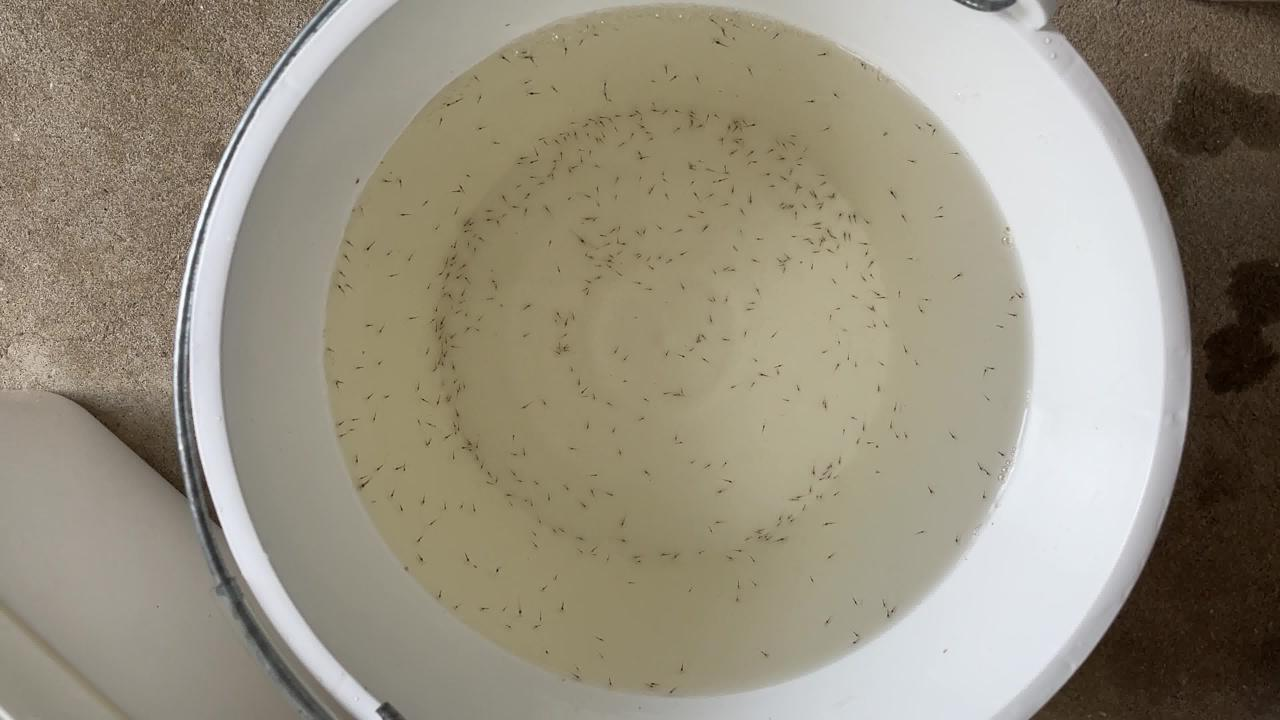shrimp: (981, 468, 993, 476), (973, 462, 985, 470), (993, 453, 1005, 461), (978, 491, 990, 499), (949, 530, 961, 538), (927, 491, 939, 499), (913, 524, 925, 532), (946, 431, 958, 439), (982, 392, 994, 400), (986, 361, 998, 369), (976, 367, 988, 375), (988, 323, 1000, 331), (1006, 311, 1018, 319), (1014, 291, 1026, 299), (1004, 293, 1016, 301), (953, 268, 965, 276), (932, 214, 944, 222), (933, 203, 945, 211), (921, 293, 933, 301), (916, 302, 928, 310), (950, 148, 962, 156), (928, 126, 940, 134), (923, 119, 935, 127), (909, 124, 921, 132), (907, 156, 919, 164), (883, 190, 895, 198), (896, 211, 908, 219), (904, 251, 916, 259), (893, 286, 905, 294), (912, 357, 924, 365), (900, 342, 912, 350), (880, 320, 892, 328), (871, 320, 883, 328), (863, 322, 875, 330), (875, 358, 887, 366), (888, 398, 900, 406), (897, 431, 909, 439), (890, 433, 902, 441), (886, 420, 898, 428), (886, 607, 898, 615), (881, 613, 893, 621), (876, 598, 888, 606), (849, 630, 861, 638), (849, 636, 861, 644), (849, 599, 861, 607), (824, 614, 836, 622), (757, 649, 769, 657), (676, 662, 688, 670), (670, 685, 682, 693), (652, 677, 664, 685), (644, 682, 656, 690), (608, 678, 620, 686), (592, 651, 604, 659), (593, 631, 605, 639), (574, 661, 586, 669), (575, 675, 587, 683), (731, 579, 743, 587), (748, 582, 760, 590), (803, 572, 815, 580), (822, 552, 834, 560), (819, 516, 831, 524), (870, 468, 882, 476), (871, 444, 883, 452), (861, 439, 873, 447), (847, 437, 859, 445), (858, 425, 870, 433), (873, 383, 885, 391), (847, 413, 859, 421), (835, 428, 847, 436), (836, 461, 848, 469), (827, 487, 839, 495), (830, 473, 842, 481), (824, 473, 836, 481), (816, 476, 828, 484), (820, 468, 832, 476), (823, 460, 835, 468), (815, 492, 827, 500), (803, 486, 815, 494), (806, 466, 818, 474), (798, 503, 810, 511), (786, 494, 798, 502), (793, 491, 805, 499), (786, 509, 798, 517), (785, 519, 797, 527), (775, 538, 787, 546), (773, 519, 785, 527), (773, 513, 785, 521), (764, 535, 776, 543), (755, 534, 767, 542), (748, 528, 760, 536), (753, 526, 765, 534), (741, 533, 753, 541), (745, 553, 757, 561), (730, 544, 742, 552), (725, 554, 737, 562), (842, 352, 854, 360), (847, 361, 859, 369), (835, 361, 847, 369), (816, 398, 828, 406), (818, 344, 830, 352), (832, 337, 844, 345), (840, 323, 852, 331), (867, 305, 879, 313), (875, 293, 887, 301), (869, 288, 881, 296), (846, 293, 858, 301), (833, 303, 845, 311), (820, 312, 832, 320), (859, 273, 871, 281), (866, 272, 878, 280), (866, 262, 878, 270), (860, 251, 872, 259), (856, 241, 868, 249), (840, 262, 852, 270), (829, 275, 841, 283), (767, 331, 779, 339), (772, 360, 784, 368), (770, 366, 782, 374), (793, 382, 805, 390), (781, 394, 793, 402), (757, 420, 769, 428), (760, 368, 772, 376), (751, 357, 763, 365), (746, 379, 758, 387), (721, 381, 733, 389), (717, 457, 729, 465), (718, 475, 730, 483), (715, 486, 727, 494), (711, 519, 723, 527), (703, 526, 715, 534), (693, 546, 705, 554), (683, 585, 695, 593), (731, 596, 743, 604), (539, 647, 551, 655), (529, 622, 541, 630), (533, 612, 545, 620), (555, 605, 567, 613), (619, 578, 631, 586), (633, 558, 645, 566), (630, 551, 642, 559), (671, 552, 683, 560), (661, 552, 673, 560), (702, 464, 714, 472), (687, 454, 699, 462), (671, 439, 683, 447), (669, 430, 681, 438), (381, 177, 393, 185), (394, 177, 406, 185), (447, 99, 459, 107), (452, 93, 464, 101), (433, 115, 445, 123), (443, 101, 455, 109), (469, 94, 481, 102), (469, 70, 481, 78), (821, 51, 833, 59), (878, 128, 890, 136), (828, 92, 840, 100), (820, 123, 832, 131), (806, 99, 818, 107), (741, 67, 753, 75), (771, 30, 783, 38), (711, 40, 723, 48), (718, 30, 730, 38), (729, 22, 741, 30), (707, 18, 719, 26), (660, 61, 672, 69), (669, 70, 681, 78), (688, 72, 700, 80), (647, 74, 659, 82), (597, 80, 609, 88), (597, 87, 609, 95), (602, 94, 614, 102), (555, 44, 567, 52), (575, 36, 587, 44), (592, 28, 604, 36), (543, 84, 555, 92), (527, 90, 539, 98), (522, 77, 534, 85), (517, 55, 529, 63), (527, 56, 539, 64), (494, 51, 506, 59), (514, 48, 526, 56), (476, 119, 488, 127), (488, 135, 500, 143), (838, 232, 850, 240), (843, 232, 855, 240), (841, 209, 853, 217), (847, 210, 859, 218), (864, 214, 876, 222), (833, 206, 845, 214), (824, 226, 836, 234), (830, 240, 842, 248), (805, 262, 817, 270), (746, 296, 758, 304), (744, 304, 756, 312), (738, 333, 750, 341), (721, 331, 733, 339), (697, 352, 709, 360), (750, 287, 762, 295), (823, 242, 835, 250), (816, 230, 828, 238), (813, 236, 825, 244), (811, 247, 823, 255), (801, 235, 813, 243), (805, 239, 817, 247), (793, 257, 805, 265), (782, 251, 794, 259), (772, 255, 784, 263), (780, 255, 792, 263), (774, 261, 786, 269), (778, 264, 790, 272), (831, 190, 843, 198), (823, 191, 835, 199), (810, 217, 822, 225), (815, 224, 827, 232), (814, 203, 826, 211), (812, 199, 824, 207), (809, 189, 821, 197), (802, 190, 814, 198), (799, 200, 811, 208), (790, 230, 802, 238), (816, 183, 828, 191), (816, 173, 828, 181), (797, 182, 809, 190), (789, 185, 801, 193), (790, 212, 802, 220), (785, 203, 797, 211), (781, 200, 793, 208), (776, 202, 788, 210), (774, 196, 786, 204), (776, 175, 788, 183), (781, 170, 793, 178), (790, 160, 802, 168), (789, 154, 801, 162), (795, 147, 807, 155), (787, 140, 799, 148), (787, 132, 799, 140), (777, 142, 789, 150), (775, 153, 787, 161), (768, 179, 780, 187), (757, 169, 769, 177), (751, 233, 763, 241), (748, 255, 760, 263), (545, 570, 557, 578), (535, 585, 547, 593), (584, 543, 596, 551), (588, 554, 600, 562), (616, 536, 628, 544), (615, 518, 627, 526), (602, 555, 614, 563), (639, 470, 651, 478), (677, 387, 689, 395), (666, 391, 678, 399), (660, 385, 672, 393), (691, 332, 703, 340), (692, 339, 704, 347), (698, 331, 710, 339), (684, 341, 696, 349), (675, 351, 687, 359), (661, 347, 673, 355), (638, 395, 650, 403), (634, 411, 646, 419), (620, 376, 632, 384), (619, 356, 631, 364), (609, 348, 621, 356), (704, 294, 716, 302), (708, 293, 720, 301), (702, 314, 714, 322), (718, 295, 730, 303), (588, 389, 600, 397), (580, 392, 592, 400), (601, 399, 613, 407), (608, 426, 620, 434), (612, 449, 624, 457), (582, 420, 594, 428), (574, 378, 586, 386), (563, 363, 575, 371), (536, 398, 548, 406), (520, 398, 532, 406), (568, 442, 580, 450), (604, 494, 616, 502), (586, 472, 598, 480), (576, 500, 588, 508), (587, 486, 599, 494), (571, 544, 583, 552), (570, 533, 582, 541), (512, 606, 524, 614), (502, 621, 514, 629), (476, 603, 488, 611), (496, 603, 508, 611), (492, 563, 504, 571), (459, 555, 471, 563), (468, 561, 480, 569), (451, 602, 463, 610), (436, 592, 448, 600), (414, 549, 426, 557), (411, 534, 423, 542), (426, 518, 438, 526), (438, 504, 450, 512), (456, 501, 468, 509), (469, 503, 481, 511), (527, 541, 539, 549), (543, 527, 555, 535), (552, 525, 564, 533), (523, 529, 535, 537), (531, 515, 543, 523), (562, 481, 574, 489), (543, 491, 555, 499), (699, 222, 711, 230), (720, 262, 732, 270), (726, 265, 738, 273), (710, 265, 722, 273), (725, 242, 737, 250), (735, 226, 747, 234), (734, 206, 746, 214), (744, 194, 756, 202), (764, 144, 776, 152), (751, 158, 763, 166), (741, 159, 753, 167), (748, 146, 760, 154), (747, 122, 759, 130), (710, 110, 722, 118), (699, 109, 711, 117), (696, 123, 708, 131), (668, 124, 680, 132), (683, 120, 695, 128), (685, 113, 697, 121), (686, 107, 698, 115), (670, 104, 682, 112), (646, 98, 658, 106), (649, 104, 661, 112), (658, 105, 670, 113), (641, 185, 653, 193), (661, 175, 673, 183), (716, 197, 728, 205), (657, 168, 669, 176), (661, 191, 673, 199), (726, 184, 738, 192), (712, 174, 724, 182), (723, 167, 735, 175), (717, 159, 729, 167), (690, 184, 702, 192), (706, 190, 718, 198), (701, 165, 713, 173), (684, 160, 696, 168), (684, 167, 696, 175), (694, 155, 706, 163), (694, 207, 706, 215), (681, 209, 693, 217), (672, 225, 684, 233), (677, 248, 689, 256), (675, 282, 687, 290), (664, 255, 676, 263), (726, 147, 738, 155), (729, 141, 741, 149), (734, 137, 746, 145), (714, 136, 726, 144), (721, 120, 733, 128), (730, 114, 742, 122), (740, 114, 752, 122), (728, 121, 740, 129), (736, 123, 748, 131), (648, 138, 660, 146), (644, 130, 656, 138), (637, 122, 649, 130), (637, 111, 649, 119), (625, 112, 637, 120), (624, 131, 636, 139), (631, 146, 643, 154), (634, 153, 646, 161), (632, 174, 644, 182), (607, 112, 619, 120), (608, 123, 620, 131), (613, 140, 625, 148), (609, 174, 621, 182), (609, 193, 621, 201), (650, 221, 662, 229), (653, 254, 665, 262), (645, 263, 657, 271), (645, 286, 657, 294), (633, 276, 645, 284), (530, 477, 542, 485), (526, 500, 538, 508), (516, 495, 528, 503), (502, 500, 514, 508), (500, 491, 512, 499), (513, 476, 525, 484), (505, 469, 517, 477), (518, 448, 530, 456), (508, 432, 520, 440), (510, 450, 522, 458), (492, 475, 504, 483), (482, 481, 494, 489), (483, 470, 495, 478), (476, 462, 488, 470), (468, 455, 480, 463), (469, 439, 481, 447), (455, 442, 467, 450), (465, 448, 477, 456), (462, 438, 474, 446), (447, 451, 459, 459), (420, 496, 432, 504), (398, 504, 410, 512), (384, 485, 396, 493), (399, 465, 411, 473), (391, 461, 403, 469), (370, 463, 382, 471), (356, 483, 368, 491), (356, 474, 368, 482), (350, 454, 362, 462), (345, 426, 357, 434), (348, 417, 360, 425), (332, 433, 344, 441), (335, 421, 347, 429), (328, 380, 340, 388), (333, 376, 345, 384), (322, 342, 334, 350), (346, 236, 358, 244), (338, 251, 350, 259), (333, 263, 345, 271), (344, 285, 356, 293), (330, 285, 342, 293), (364, 249, 376, 257), (396, 211, 408, 219), (418, 195, 430, 203), (447, 186, 459, 194), (455, 182, 467, 190), (463, 169, 475, 177), (452, 208, 464, 216), (428, 221, 440, 229), (403, 256, 415, 264), (391, 270, 403, 278), (379, 247, 391, 255), (379, 390, 391, 398), (367, 411, 379, 419), (362, 394, 374, 402), (373, 357, 385, 365), (377, 324, 389, 332), (405, 315, 417, 323), (355, 319, 367, 327), (356, 347, 368, 355), (350, 363, 362, 371), (553, 265, 565, 273), (567, 310, 579, 318), (559, 319, 571, 327), (558, 340, 570, 348), (560, 346, 572, 354), (550, 350, 562, 358), (550, 341, 562, 349), (559, 332, 571, 340), (553, 307, 565, 315), (548, 314, 560, 322), (453, 423, 465, 431), (446, 418, 458, 426), (449, 428, 461, 436), (521, 328, 533, 336), (522, 303, 534, 311), (639, 225, 651, 233), (631, 227, 643, 235), (645, 254, 657, 262), (633, 249, 645, 257), (578, 282, 590, 290), (582, 287, 594, 295), (583, 276, 595, 284), (592, 270, 604, 278), (617, 271, 629, 279), (602, 263, 614, 271), (590, 261, 602, 269), (601, 256, 613, 264), (605, 250, 617, 258), (611, 249, 623, 257), (616, 239, 628, 247), (612, 235, 624, 243), (425, 436, 437, 444), (440, 431, 452, 439), (416, 438, 428, 446), (425, 421, 437, 429), (413, 415, 425, 423), (419, 393, 431, 401), (452, 409, 464, 417), (445, 395, 457, 403), (440, 392, 452, 400), (429, 398, 441, 406), (410, 379, 422, 387), (485, 275, 497, 283), (491, 285, 503, 293), (494, 301, 506, 309), (574, 238, 586, 246), (614, 223, 626, 231), (595, 230, 607, 238), (580, 248, 592, 256), (585, 254, 597, 262), (596, 241, 608, 249), (606, 224, 618, 232), (592, 215, 604, 223), (579, 213, 591, 221), (574, 217, 586, 225), (542, 236, 554, 244), (592, 198, 604, 206), (591, 180, 603, 188), (590, 159, 602, 167), (599, 129, 611, 137), (596, 109, 608, 117), (595, 118, 607, 126), (598, 137, 610, 145), (586, 134, 598, 142), (583, 148, 595, 156), (580, 192, 592, 200), (563, 194, 575, 202), (539, 202, 551, 210), (448, 388, 460, 396), (452, 380, 464, 388), (458, 382, 470, 390), (447, 359, 459, 367), (429, 364, 441, 372), (436, 361, 448, 369), (432, 353, 444, 361), (440, 349, 452, 357), (450, 344, 462, 352), (446, 329, 458, 337), (437, 338, 449, 346), (473, 324, 485, 332), (459, 322, 471, 330), (476, 315, 488, 323), (483, 294, 495, 302), (522, 206, 534, 214), (513, 181, 525, 189), (518, 193, 530, 201), (500, 193, 512, 201), (512, 200, 524, 208), (495, 210, 507, 218), (487, 205, 499, 213), (492, 218, 504, 226), (480, 212, 492, 220), (574, 155, 586, 163), (570, 162, 582, 170), (563, 167, 575, 175), (580, 125, 592, 133), (585, 113, 597, 121), (567, 115, 579, 123), (553, 127, 565, 135), (534, 132, 546, 140), (549, 157, 561, 165), (542, 167, 554, 175), (547, 175, 559, 183), (554, 149, 566, 157), (570, 134, 582, 142), (559, 138, 571, 146), (562, 130, 574, 138), (549, 136, 561, 144), (531, 148, 543, 156), (514, 149, 526, 157), (535, 180, 547, 188), (525, 155, 537, 163), (528, 172, 540, 180), (511, 156, 523, 164), (457, 216, 469, 224), (420, 346, 432, 354), (434, 316, 446, 324), (436, 326, 448, 334), (427, 321, 439, 329), (461, 310, 473, 318), (461, 226, 473, 234), (478, 234, 490, 242), (445, 240, 457, 248), (422, 278, 434, 286), (447, 241, 459, 249), (468, 230, 480, 238), (470, 243, 482, 251), (461, 237, 473, 245), (453, 297, 465, 305), (450, 308, 462, 316), (431, 303, 443, 311), (456, 285, 468, 293), (438, 255, 450, 263), (459, 276, 471, 284), (443, 292, 455, 300), (438, 289, 450, 297), (437, 284, 449, 292), (457, 264, 469, 272), (450, 275, 462, 283), (435, 266, 447, 274), (449, 250, 461, 258), (438, 267, 450, 275), (443, 258, 455, 266), (348, 269, 360, 277)
